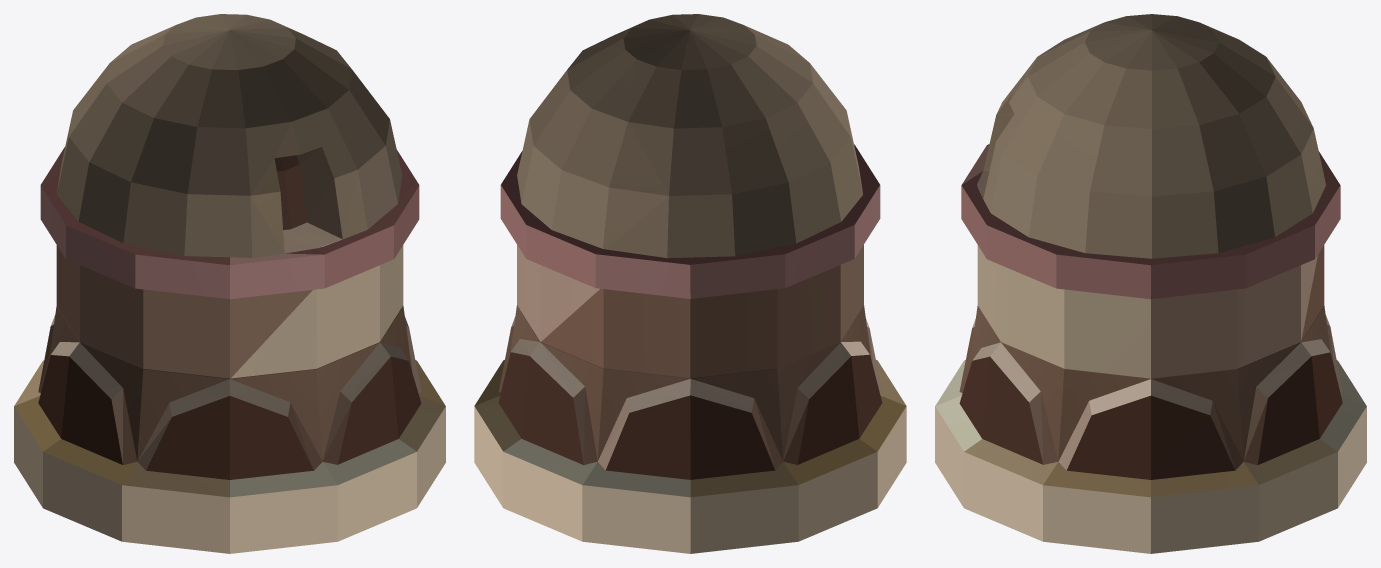
The model's file is castle07.fbx.
3 views of the same model, side by side, from view 1: azimuth 30°, elevation 25°; view 2: azimuth 150°, elevation 25°; view 3: azimuth 270°, elevation 25° (orthographic).
Visible parts, largest first — view 1: castle07; view 2: castle07; view 3: castle07.
Part boxes in pixels (<box>): castle07: <box>14,14,445,553</box>; castle07: <box>474,14,906,553</box>; castle07: <box>935,14,1366,553</box>.
Size of the model in its own units: 1.86 by 2.06 by 1.86.
1 material, 1 textured.
